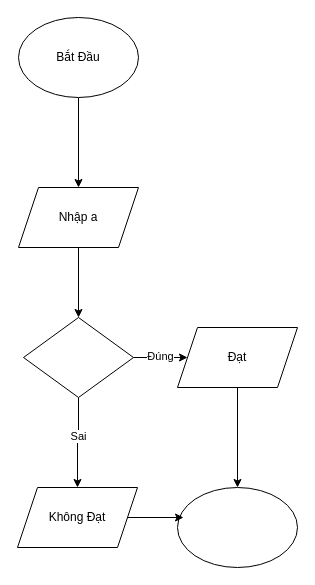
The diagram is 315 pixels wide and 585 high, and some of its shapes have lost their labels. The shapes that lost their labels are listed below. From the top down, each one's centre as x and y in pixels, then its label:
At [78,357]: "If a > 5 và a khác 5".
At [237,527]: "End".
